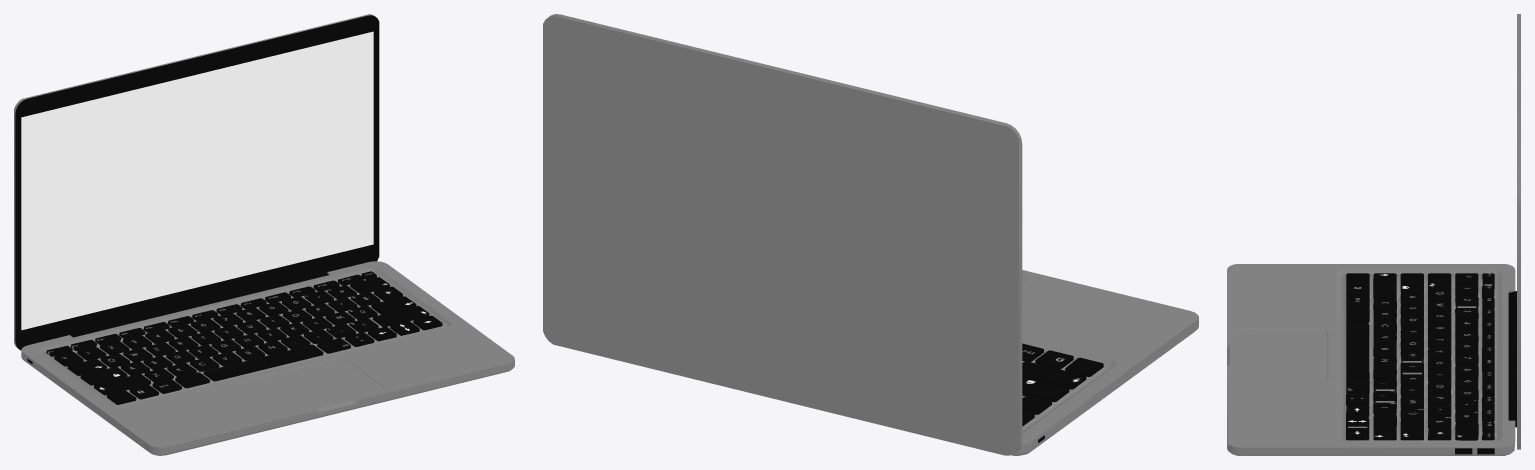
The model's file is Portatil.glb.
3 renders of one model, left to right at view 1: azimuth 30°, elevation 25°; view 2: azimuth 150°, elevation 25°; view 3: azimuth 270°, elevation 25°, orthographic. The views are drawn at different scales.
Visible parts, largest first — view 1: Screen_ComputerScreen_0, Frame_ComputerFrame_0; view 2: Screen_ComputerScreen_0, Frame_ComputerFrame_0; view 3: Frame_ComputerFrame_0, Screen_ComputerScreen_0.
Part boxes in pixels (left/top/right/bottom): Screen_ComputerScreen_0: left=14, top=14, right=379, bottom=350; Frame_ComputerFrame_0: left=21, top=261, right=514, bottom=455; Screen_ComputerScreen_0: left=543, top=14, right=1022, bottom=455; Frame_ComputerFrame_0: left=1011, top=270, right=1198, bottom=455; Frame_ComputerFrame_0: left=1227, top=264, right=1515, bottom=455; Screen_ComputerScreen_0: left=1508, top=14, right=1520, bottom=449.
Bounding box in the file's own units: 30.4 × 20.54 × 20.5.
2 materials, 2 textured.
